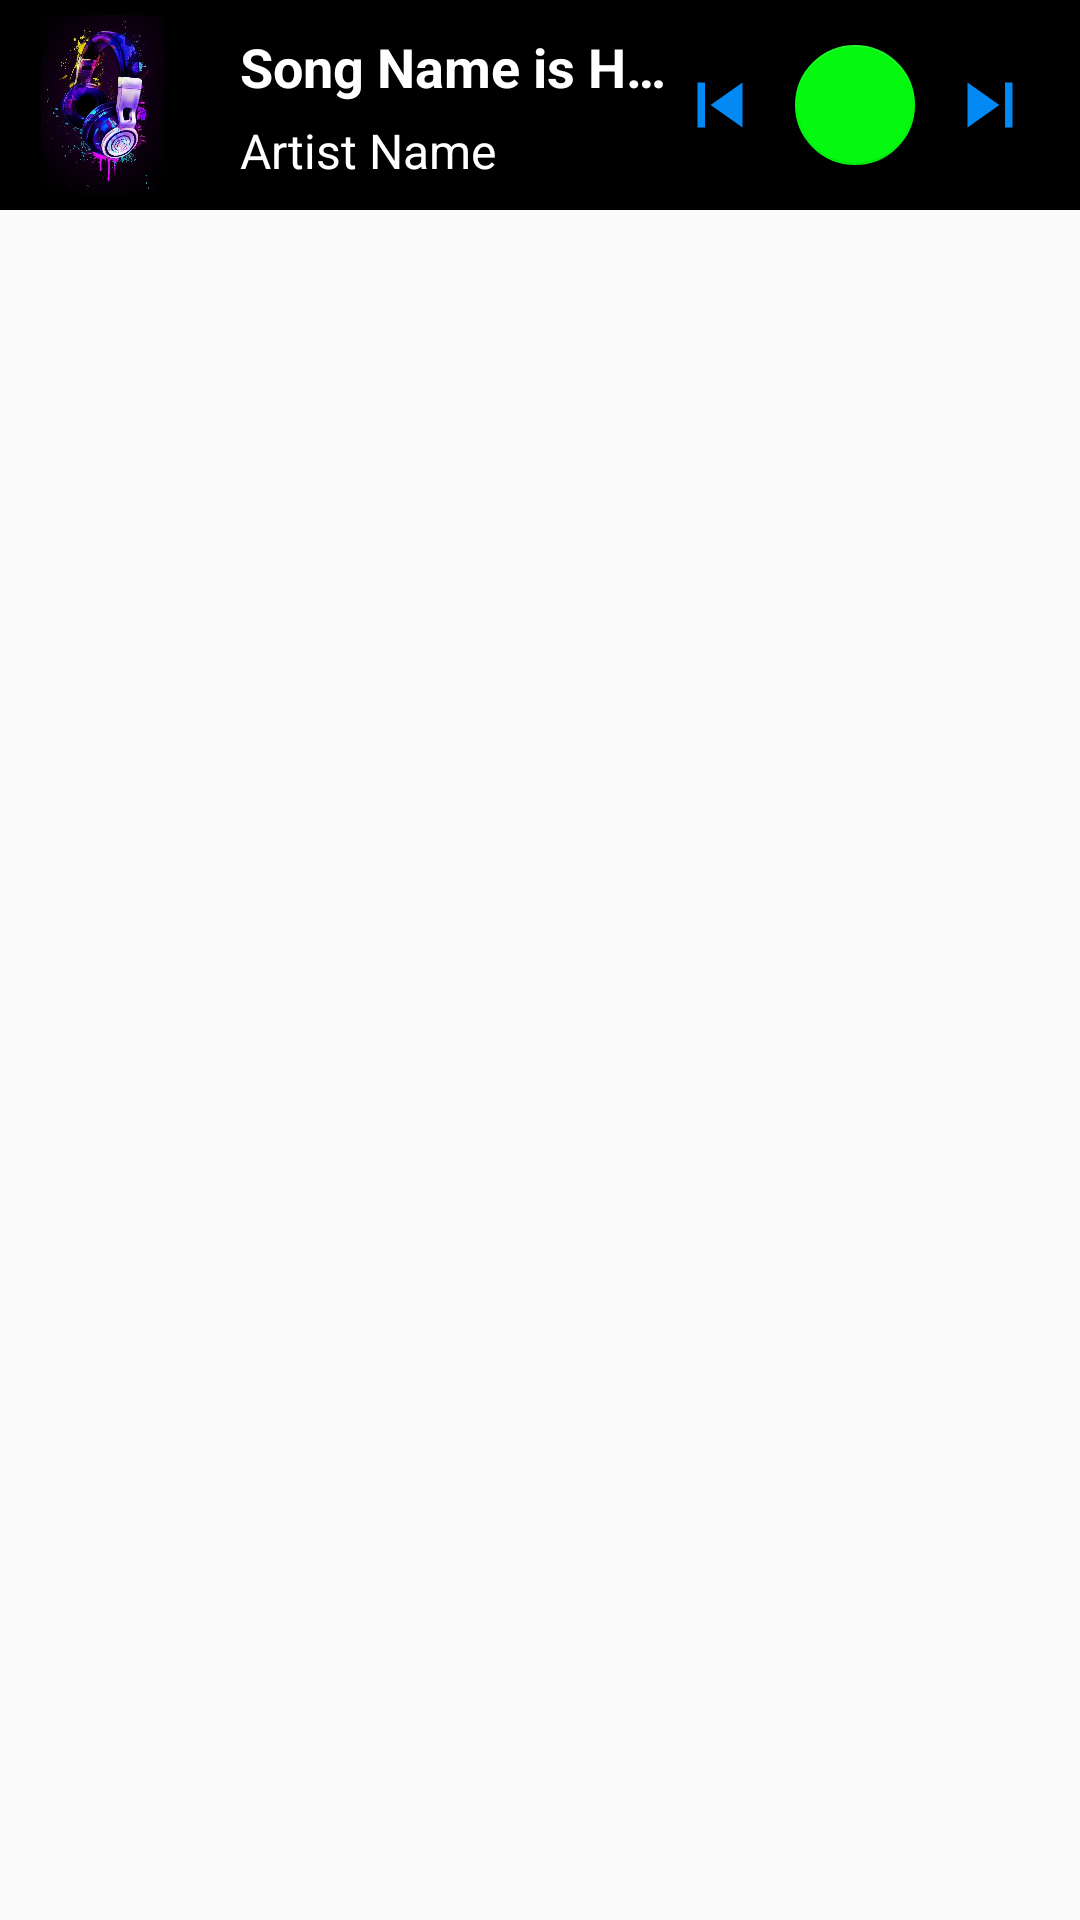

Point at icon controls on the screen. Image size 1080px×1920px, points as (x,y).
headphones: (102,105)
skip next: (990,105)
skip previous: (720,105)
